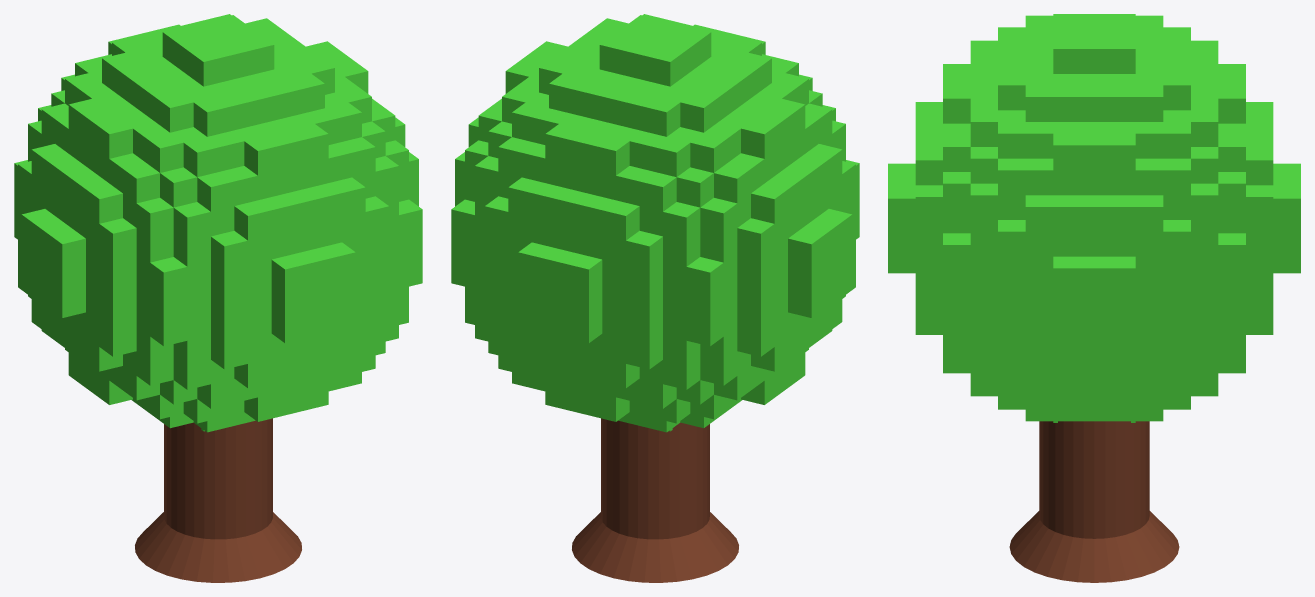
Rendered from MinecraftTree.fbx.
3 views of the same model, side by side, from view 1: azimuth 30°, elevation 25°; view 2: azimuth 150°, elevation 25°; view 3: azimuth 270°, elevation 25° (orthographic).
Visible parts, largest first — view 1: 円柱.001; view 2: 円柱.001; view 3: 円柱.001.
Part boxes in pixels (bbox=[...]): 円柱.001: bbox=[14, 14, 422, 582]; 円柱.001: bbox=[451, 14, 859, 582]; 円柱.001: bbox=[888, 14, 1300, 582].
Size of the model in its own units: 3700 by 5098 by 3700.
